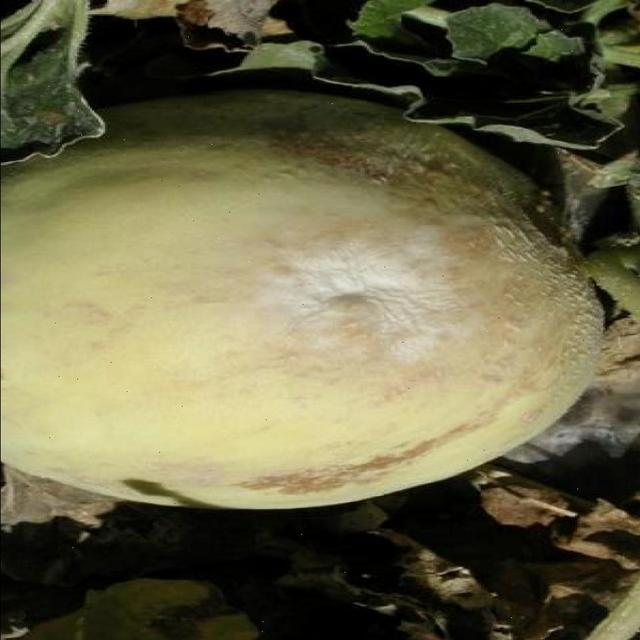Sunscald Fruit: (161, 136, 336, 249)
